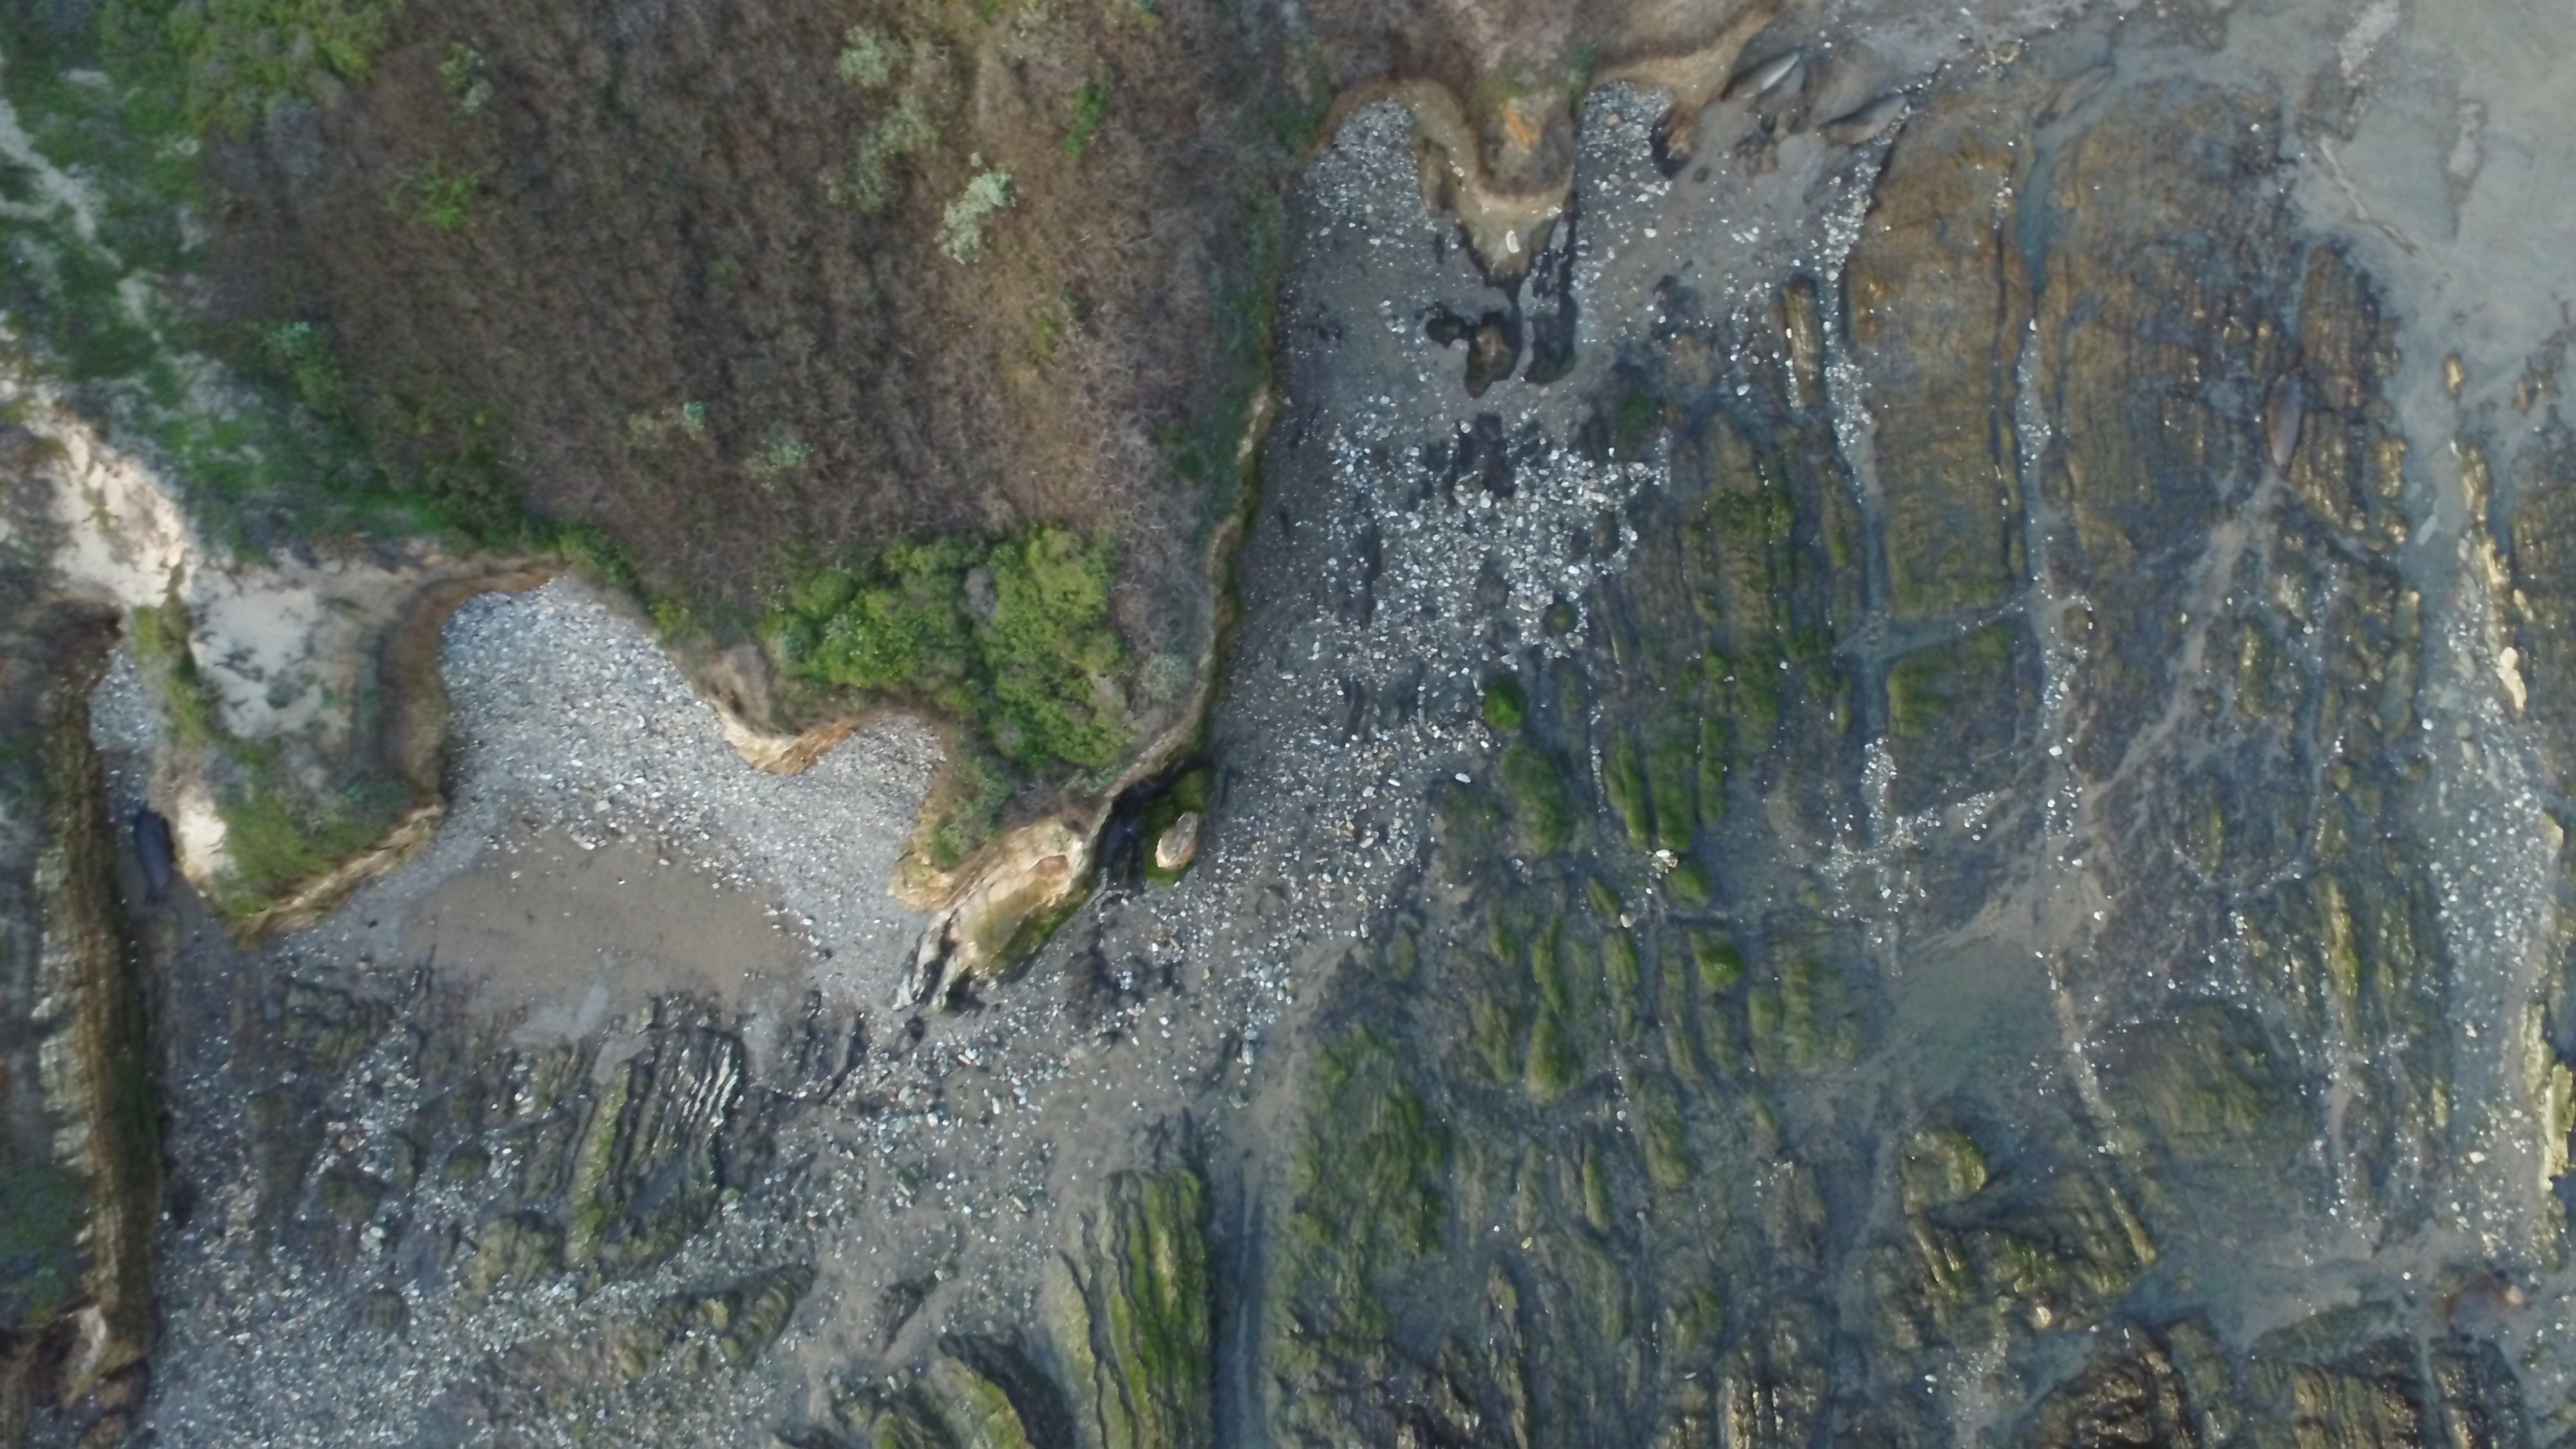male juvenile / female juvenile / adult female: (1819, 88, 1923, 147), (1720, 48, 1801, 103), (2266, 366, 2305, 472), (134, 809, 173, 902), (1746, 60, 1805, 119)
